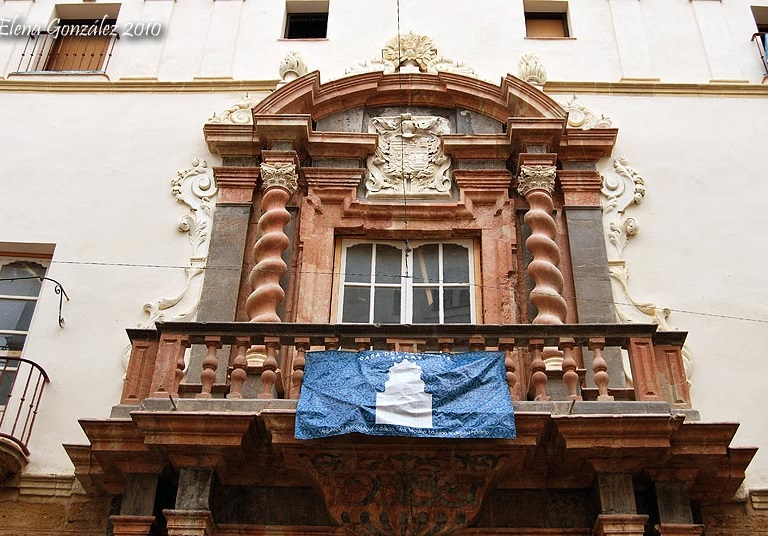columna-salomonica: (240, 189, 293, 322), (521, 186, 570, 325)
fronton-partido: (248, 66, 574, 150)
